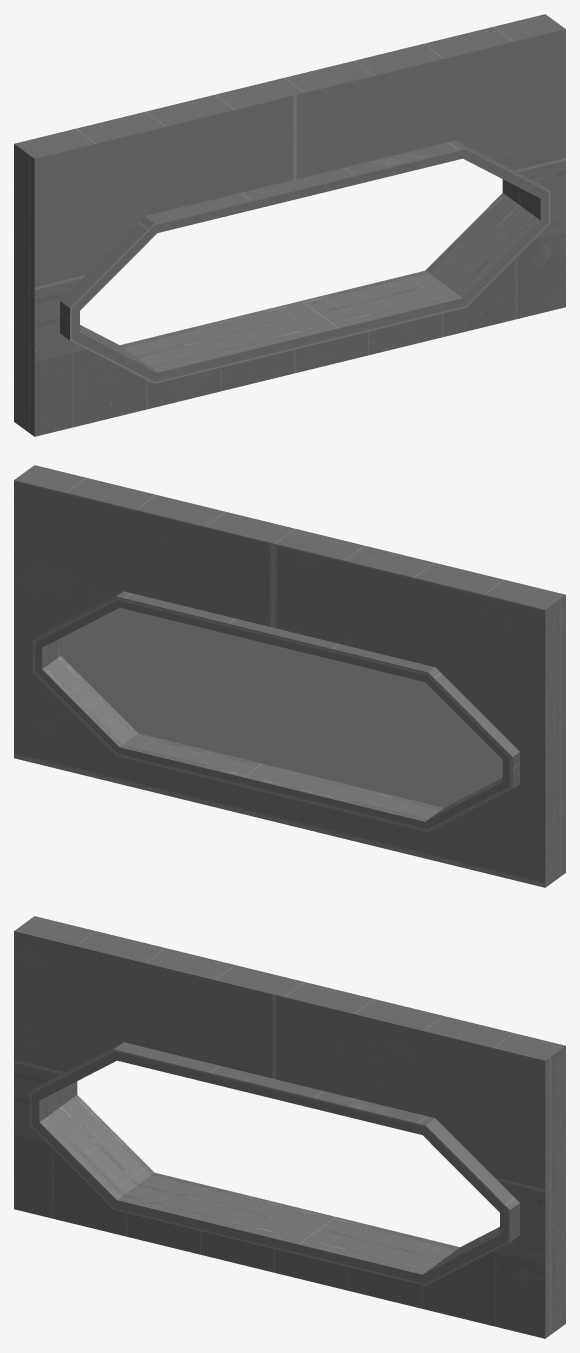
Rendered from SM_modules_Plane_067.glb.
3 views of the same model, one above another, from view 1: azimuth 30°, elevation 25°; view 2: azimuth 150°, elevation 25°; view 3: azimuth 330°, elevation 25° (orthographic).
Visible parts, largest first — view 1: SM_modules_Plane_067; view 2: SM_modules_Plane_067; view 3: SM_modules_Plane_067.
Part boxes in pixels (x1,y1,x2,y2): SM_modules_Plane_067: [14, 14, 565, 436]; SM_modules_Plane_067: [14, 465, 565, 887]; SM_modules_Plane_067: [14, 916, 565, 1338].
Size of the model in its own units: 8 by 4 by 0.9828.
2 materials, 1 textured.
